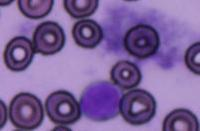L: (80, 79, 124, 120)
